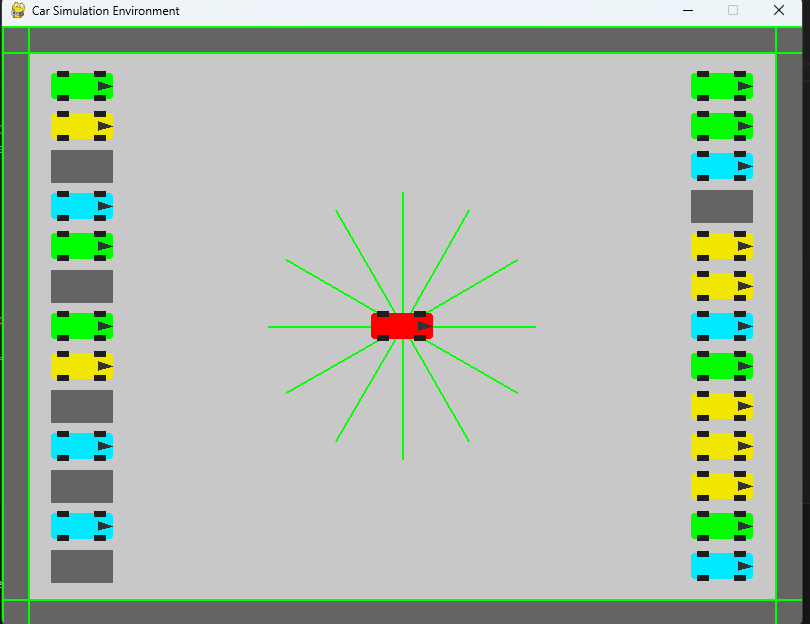ControlledCar: (353, 301, 453, 355)
ParkedCar: (46, 503, 123, 549), (684, 346, 760, 386), (43, 186, 117, 227), (44, 346, 117, 386), (682, 65, 755, 103), (688, 466, 755, 507), (690, 305, 755, 347), (46, 105, 115, 143), (47, 64, 112, 104), (689, 548, 759, 585), (684, 227, 760, 261), (49, 426, 115, 465), (685, 426, 754, 462), (687, 150, 757, 185), (684, 109, 756, 143), (687, 389, 754, 424), (50, 311, 116, 346), (691, 510, 755, 545), (52, 231, 117, 265), (691, 270, 755, 304)
ParkingSpot: (47, 545, 123, 587), (687, 185, 761, 226), (46, 269, 118, 311), (42, 468, 125, 503), (42, 389, 120, 426), (50, 149, 115, 184)
